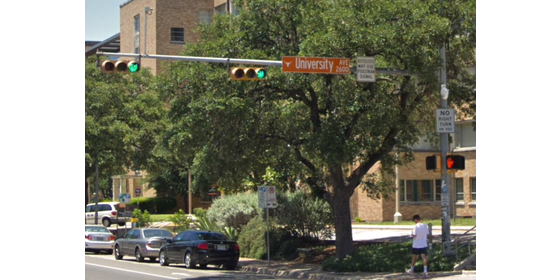bicyclists must use ped signal sign: (356, 52, 377, 84)
no right turn on red sign: (436, 105, 455, 135)
